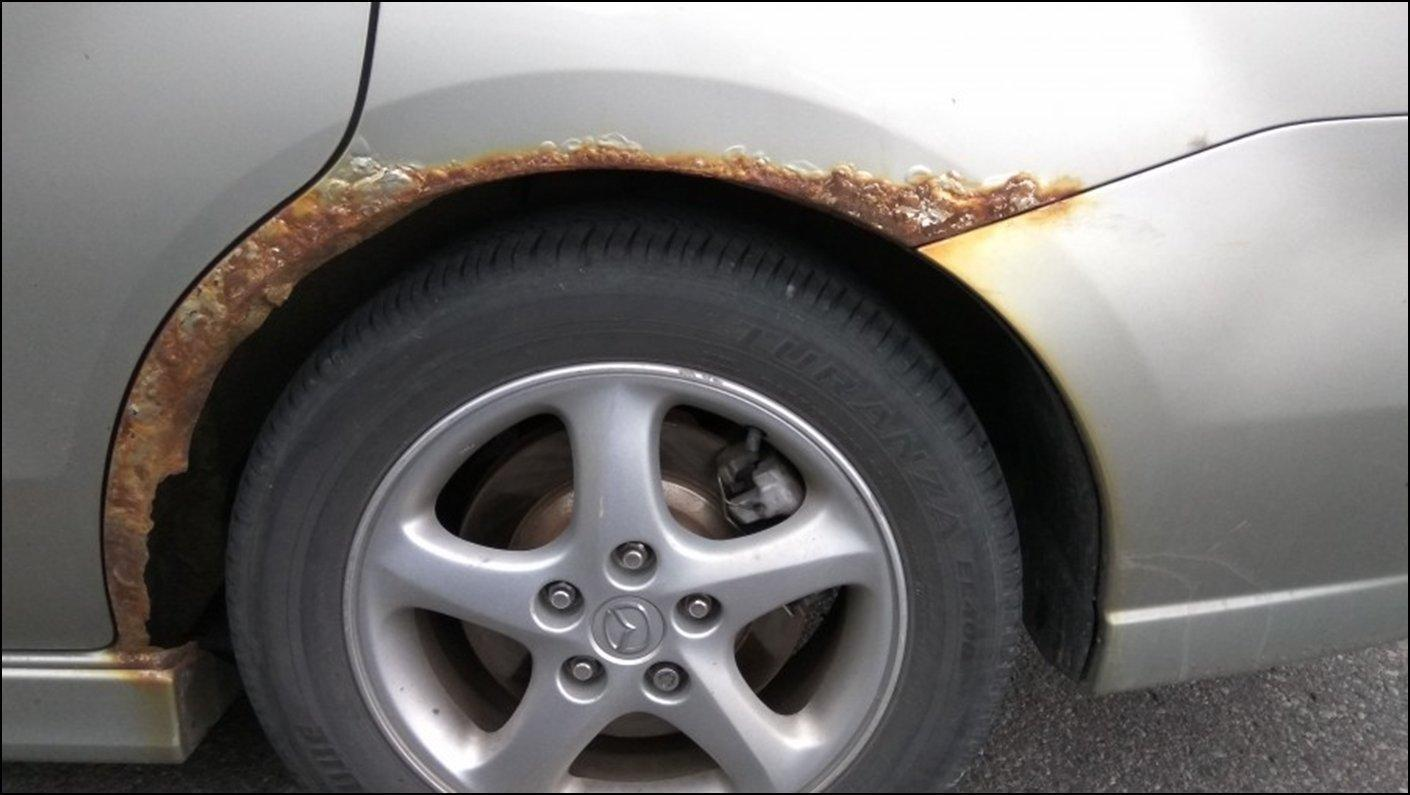corrosion: (94, 172, 336, 698), (305, 139, 1121, 258)
